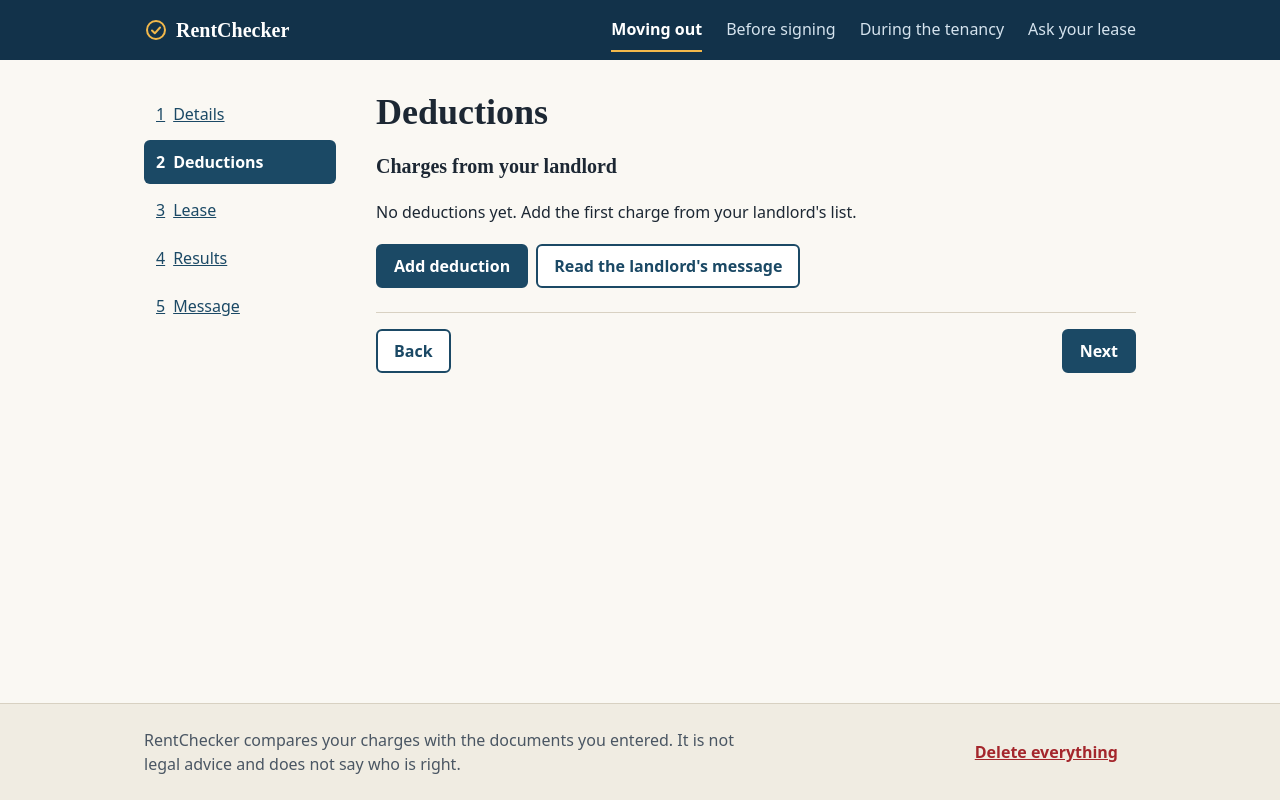
it: Deductions step › F1-R3 Next with no deduction says to add one and focuses the add control
Click the button "Next": (1099, 351) [1062, 329, 1136, 373]
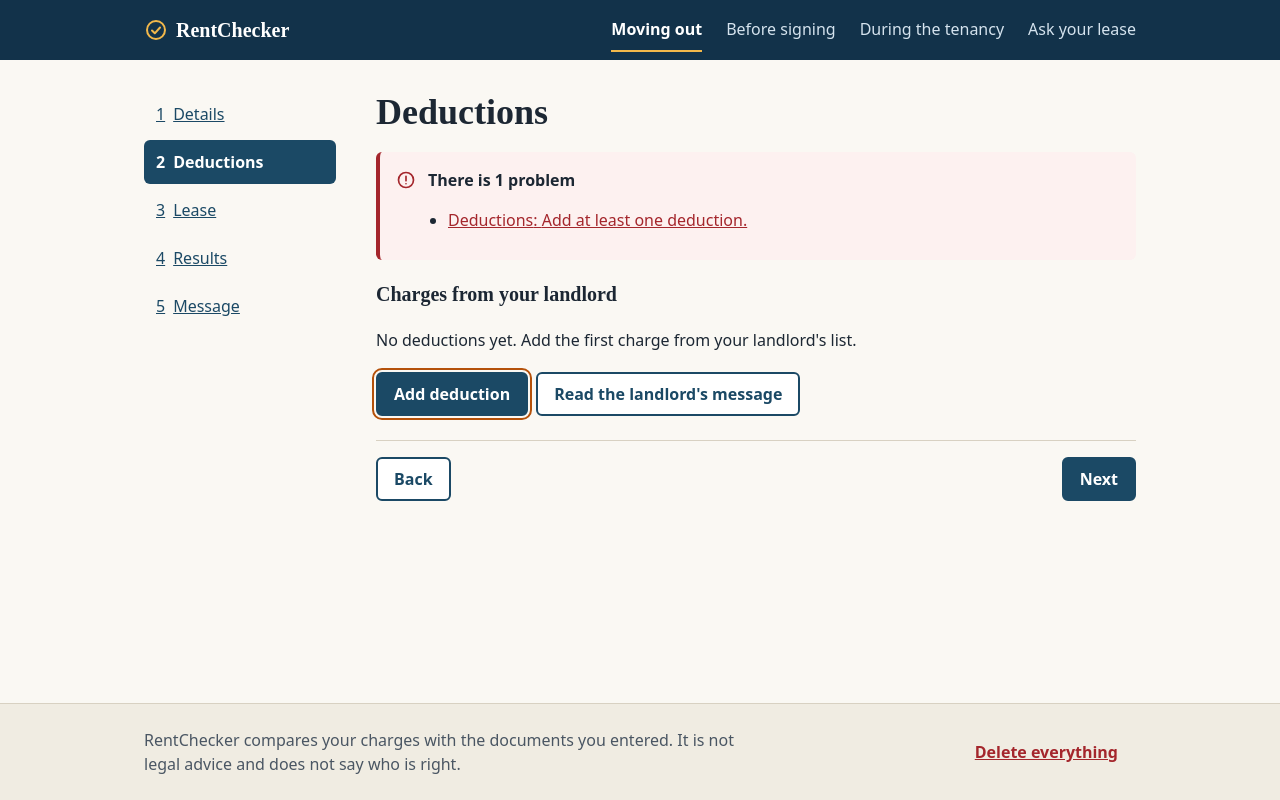
expect the link "Deductions: Add at least one deduction." is shown: met, box [448, 209, 747, 231]
